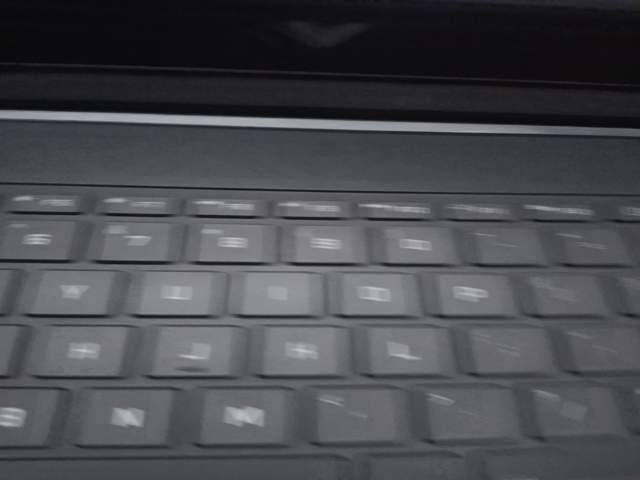pothole: (104, 402, 313, 480)
